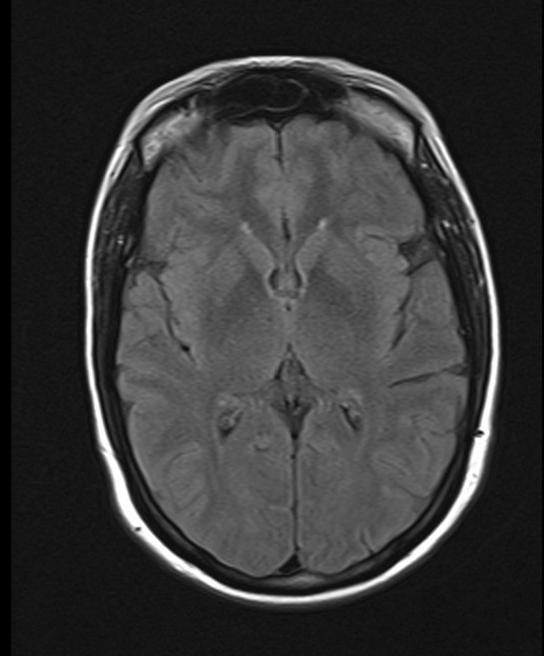Normal_Brain: (20, 1, 544, 656)
